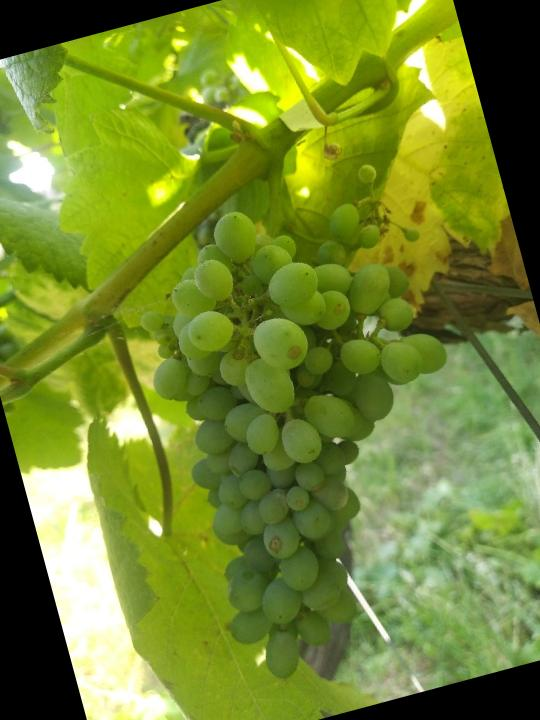grape: (106, 150, 527, 700)
